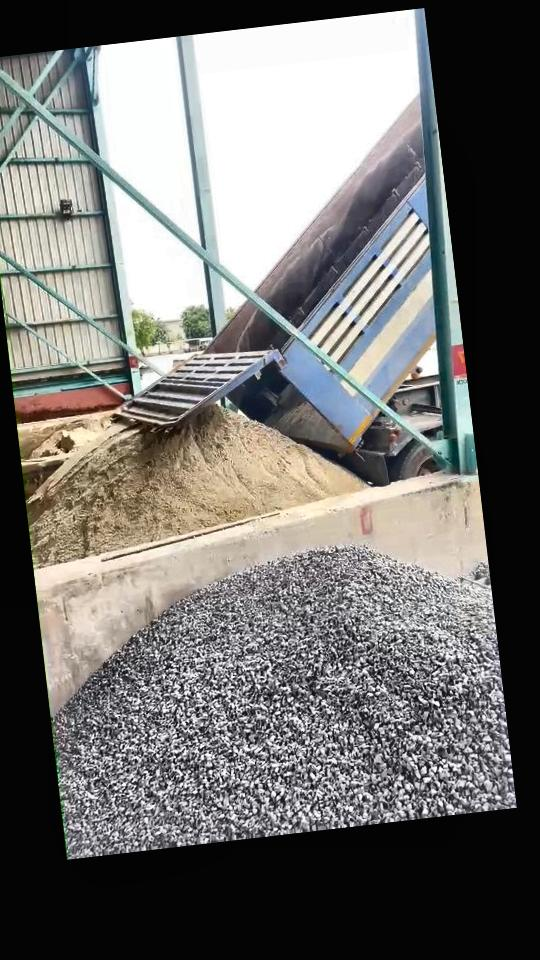gravel: (56, 546, 516, 857)
sand: (30, 406, 364, 566), (30, 427, 98, 459)
